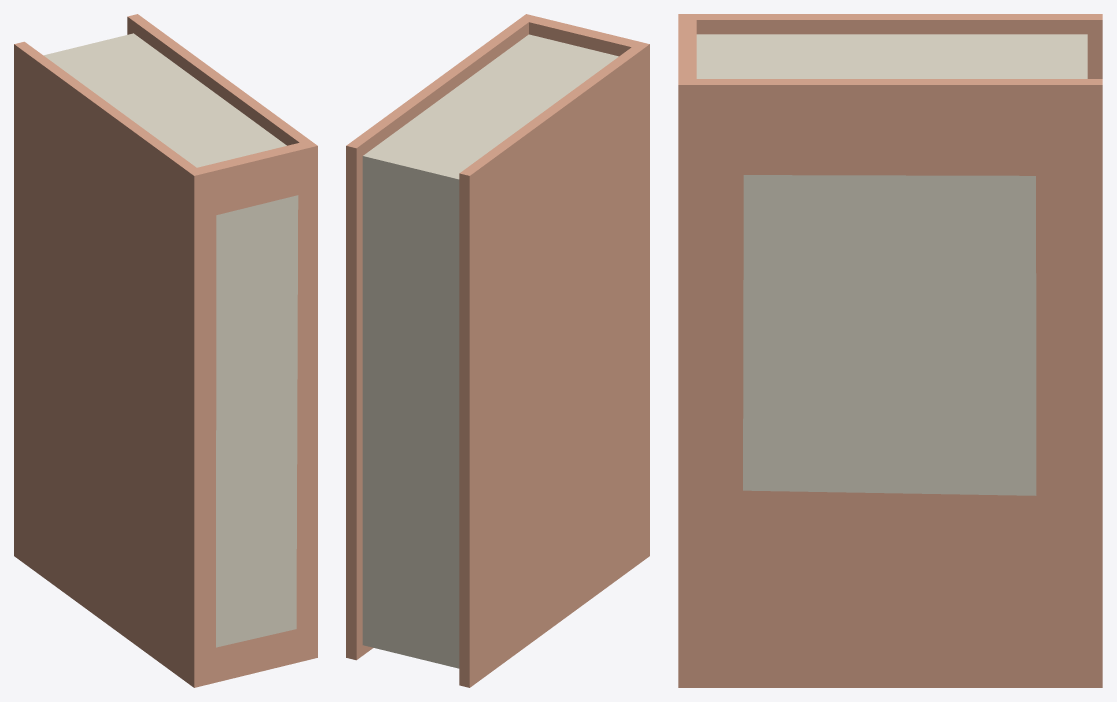
The model's file is book2.fbx.
3 renders of one model, left to right at view 1: azimuth 30°, elevation 25°; view 2: azimuth 150°, elevation 25°; view 3: azimuth 270°, elevation 25°, orthographic. The views are drawn at different scales.
Visible parts, largest first — view 1: Boole_4; view 2: Boole_4; view 3: Boole_4.
Boxes of the visible parts, <box> form: Boole_4: <box>14,14,317,687</box>; Boole_4: <box>346,14,649,687</box>; Boole_4: <box>678,14,1102,687</box>.
Size of the model in its own units: 11.73 by 46.4 by 29.58.
